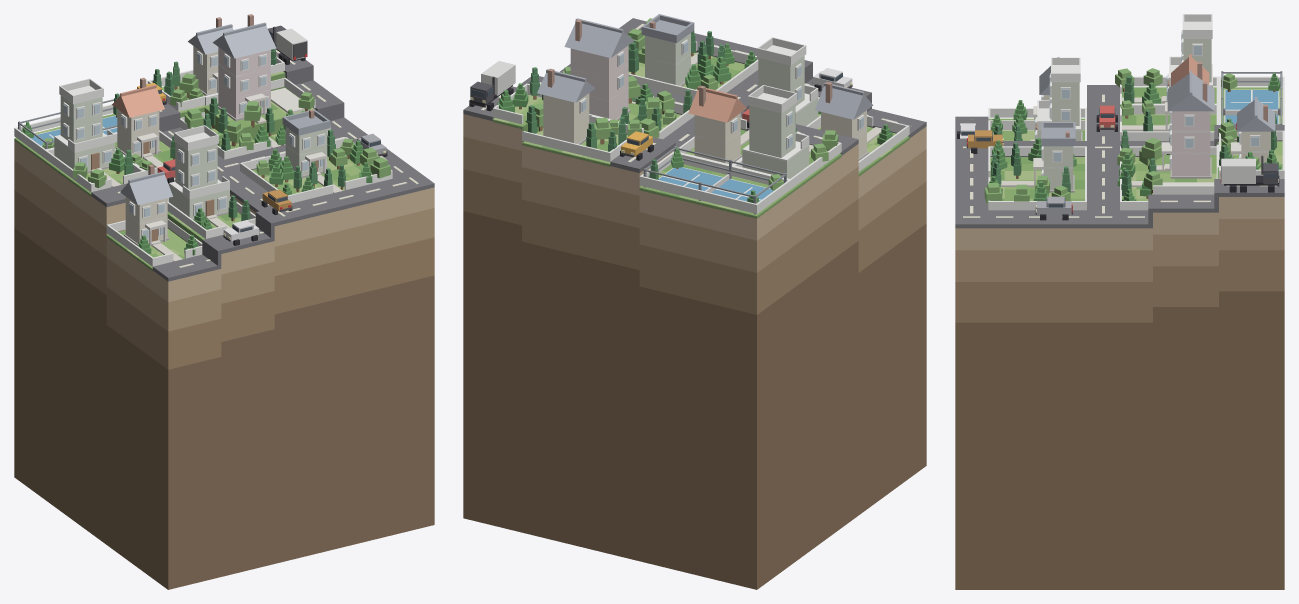
The model's file is block_5_terracing_0.glb.
3 renders of one model, left to right at view 1: azimuth 30°, elevation 25°; view 2: azimuth 150°, elevation 25°; view 3: azimuth 270°, elevation 25°, orthographic. The views are drawn at different scales.
Visible parts, largest first — view 1: Patch_UpperLeft_b07_TR, Bungalows_UpperLeft_b07_TR, Roads_UpperLeft_b07_TR, ULCar_019_TR, LawnSkirt_UpperLeft_b07_TR, RoadMarks_UpperLeft_b07_TR, ULCar_004_TR, ULCar_018_TR; view 2: Patch_UpperLeft_b07_TR, Bungalows_UpperLeft_b07_TR, Roads_UpperLeft_b07_TR, ULCar_019_TR, ULCar_017_TR; view 3: Patch_UpperLeft_b07_TR, Bungalows_UpperLeft_b07_TR, Roads_UpperLeft_b07_TR, ULCar_019_TR, RoadMarks_UpperLeft_b07_TR, ULCar_020_TR, ULCar_018_TR, ULCar_008_TR.
Boxes of the visible parts, left/top/right/bottom form: Patch_UpperLeft_b07_TR: left=14, top=140, right=434, bottom=589; Bungalows_UpperLeft_b07_TR: left=14, top=14, right=392, bottom=270; Roads_UpperLeft_b07_TR: left=91, top=52, right=434, bottom=281; ULCar_019_TR: left=268, top=25, right=307, bottom=64; LawnSkirt_UpperLeft_b07_TR: left=16, top=72, right=285, bottom=267; RoadMarks_UpperLeft_b07_TR: left=117, top=49, right=418, bottom=270; ULCar_004_TR: left=223, top=220, right=259, bottom=245; ULCar_018_TR: left=261, top=189, right=292, bottom=214; Patch_UpperLeft_b07_TR: left=463, top=114, right=926, bottom=589; Bungalows_UpperLeft_b07_TR: left=492, top=14, right=909, bottom=218; Roads_UpperLeft_b07_TR: left=463, top=18, right=926, bottom=172; ULCar_019_TR: left=469, top=61, right=515, bottom=111; ULCar_017_TR: left=620, top=131, right=653, bottom=160; Patch_UpperLeft_b07_TR: left=955, top=197, right=1284, bottom=589; Bungalows_UpperLeft_b07_TR: left=988, top=14, right=1284, bottom=210; Roads_UpperLeft_b07_TR: left=955, top=85, right=1284, bottom=228; ULCar_019_TR: left=1220, top=155, right=1279, bottom=192; RoadMarks_UpperLeft_b07_TR: left=963, top=94, right=1276, bottom=217; ULCar_020_TR: left=1035, top=196, right=1072, bottom=220; ULCar_018_TR: left=966, top=130, right=1003, bottom=153; ULCar_008_TR: left=1096, top=105, right=1117, bottom=131.
Bounding box in the file's own units: 9.61 × 15.01 × 9.5.
